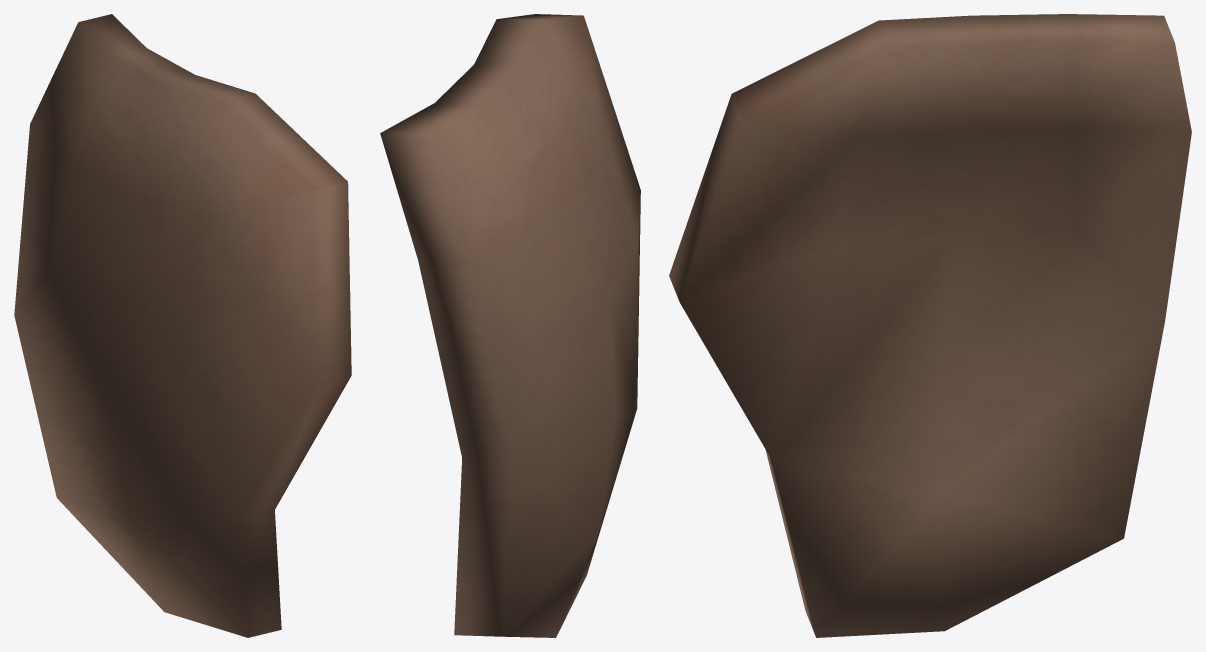
Rendered from vase_shard.fbx.
3 renders of one model, left to right at view 1: azimuth 30°, elevation 25°; view 2: azimuth 150°, elevation 25°; view 3: azimuth 270°, elevation 25°, orthographic. The views are drawn at different scales.
Parts seen in each view (by area): view 1: VaseShard; view 2: VaseShard; view 3: VaseShard.
Boxes of the visible parts, <box> form: VaseShard: <box>14,14,351,637</box>; VaseShard: <box>380,14,640,637</box>; VaseShard: <box>669,14,1191,637</box>.
Bounding box in the file's own units: 30.67 × 95.98 × 74.82.
